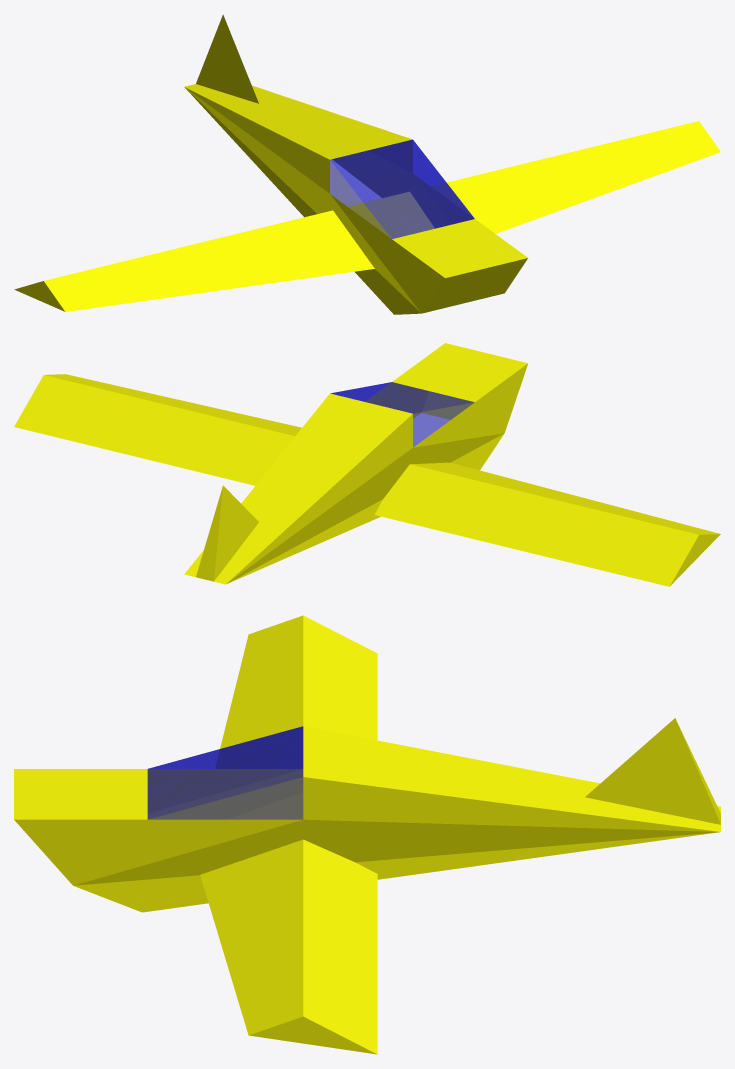
3 renders of one model, top to bottom at view 1: azimuth 30°, elevation 25°; view 2: azimuth 150°, elevation 25°; view 3: azimuth 270°, elevation 25°, orthographic. The views are drawn at different scales.
Parts seen in each view (by area): view 1: SketchUp (×6); view 2: SketchUp (×6); view 3: SketchUp (×5).
Boxes of the visible parts, left/top/right/bottom form: SketchUp (×6): left=14, top=14, right=720, bottom=314; SketchUp (×6): left=14, top=343, right=720, bottom=586; SketchUp (×5): left=14, top=615, right=720, bottom=1054.
Bounding box in the file's own units: 154 × 115 × 30.28.
